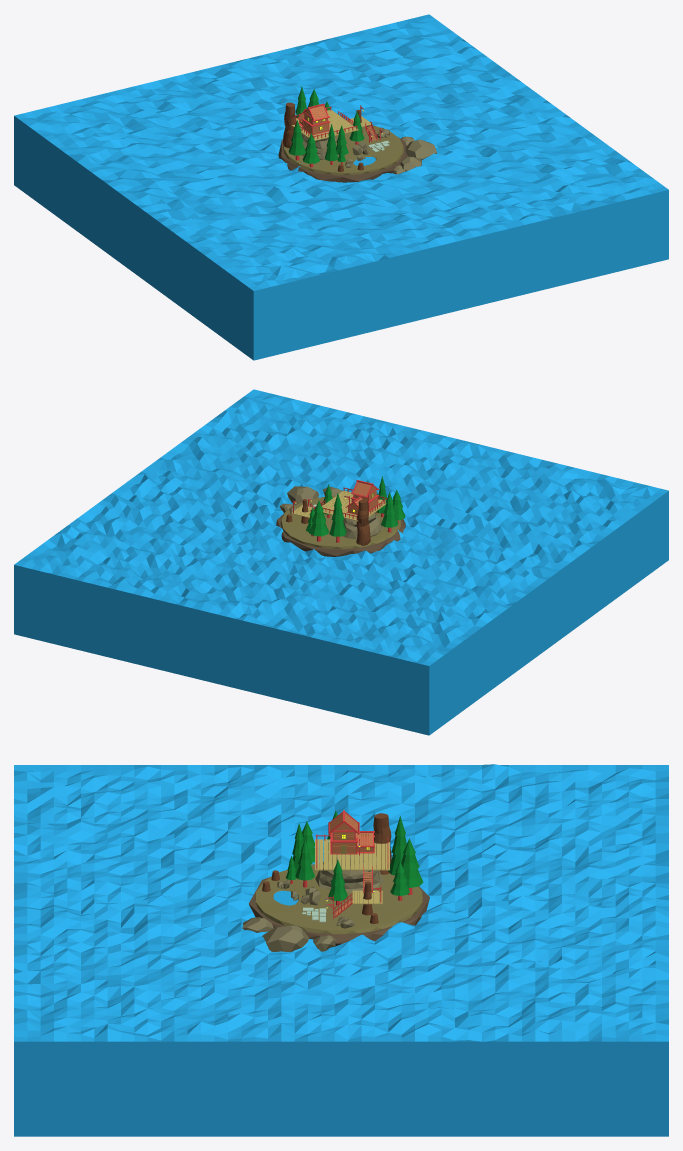
3 views of the same model, one above another, from view 1: azimuth 30°, elevation 25°; view 2: azimuth 150°, elevation 25°; view 3: azimuth 270°, elevation 25° (orthographic). The views are drawn at different scales.
Parts seen in each view (by area): view 1: Cube.064, land1, land2, Cube.004; view 2: Cube.064, land1, land2, Cube.004, Cylinder.025; view 3: Cube.064, land1, Cube.004, land2, Cylinder.024, Icosphere.014, Cylinder.030, Cylinder.025, Cylinder.031.
Boxes of the visible parts, box(x1,y1,x2,y2) form: Cube.064: box(14, 14, 668, 360); land1: box(283, 125, 403, 174); land2: box(278, 127, 407, 182); Cube.004: box(291, 110, 358, 140); Cube.064: box(14, 389, 668, 735); land1: box(280, 495, 401, 548); land2: box(276, 504, 405, 556); Cube.004: box(322, 491, 386, 521); Cylinder.025: box(356, 499, 370, 545); Cube.064: box(14, 764, 668, 1136); land1: box(255, 864, 422, 934); Cube.004: box(315, 839, 389, 870); land2: box(248, 876, 429, 946); Cylinder.024: box(315, 850, 383, 892); Icosphere.014: box(262, 925, 308, 952); Cylinder.030: box(401, 838, 423, 894); Cylinder.025: box(373, 813, 391, 874); Cylinder.031: box(388, 816, 406, 875).
Bounding box in the file's own units: 614 × 176 × 614.
